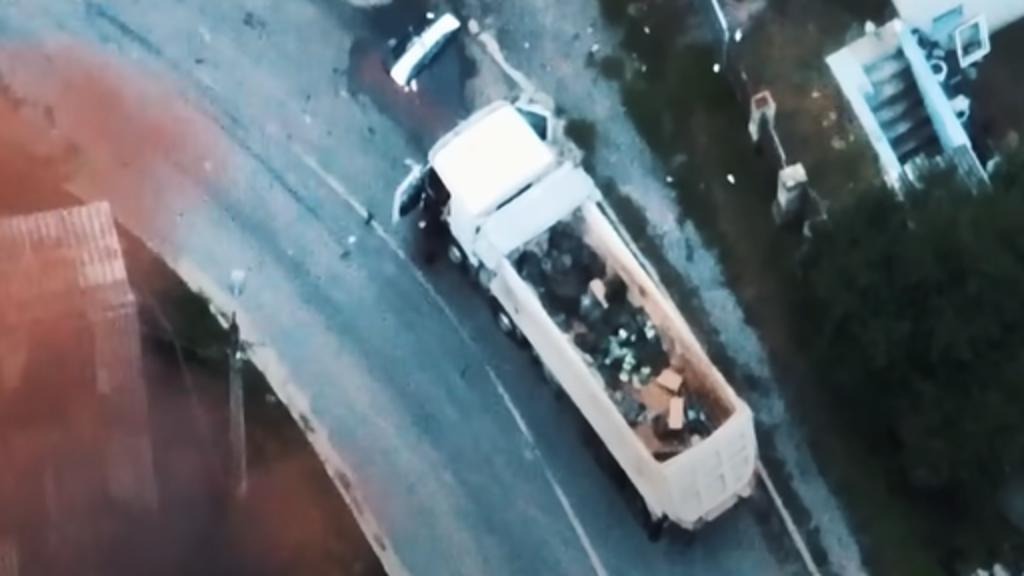TRUCK: (386, 92, 764, 552)
